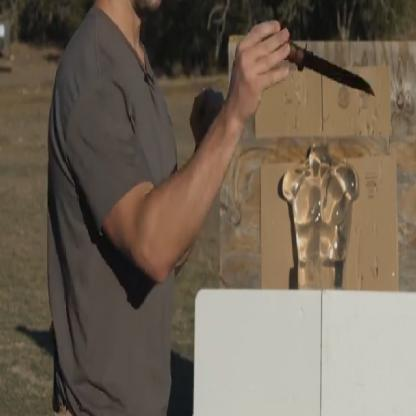knife: (247, 6, 382, 104)
